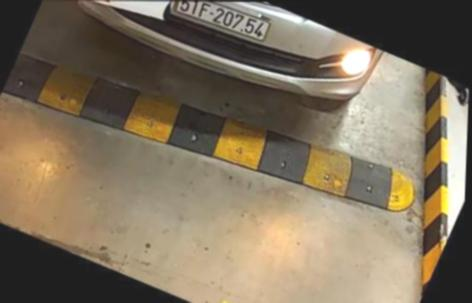License_Plate: (166, 2, 281, 45)
